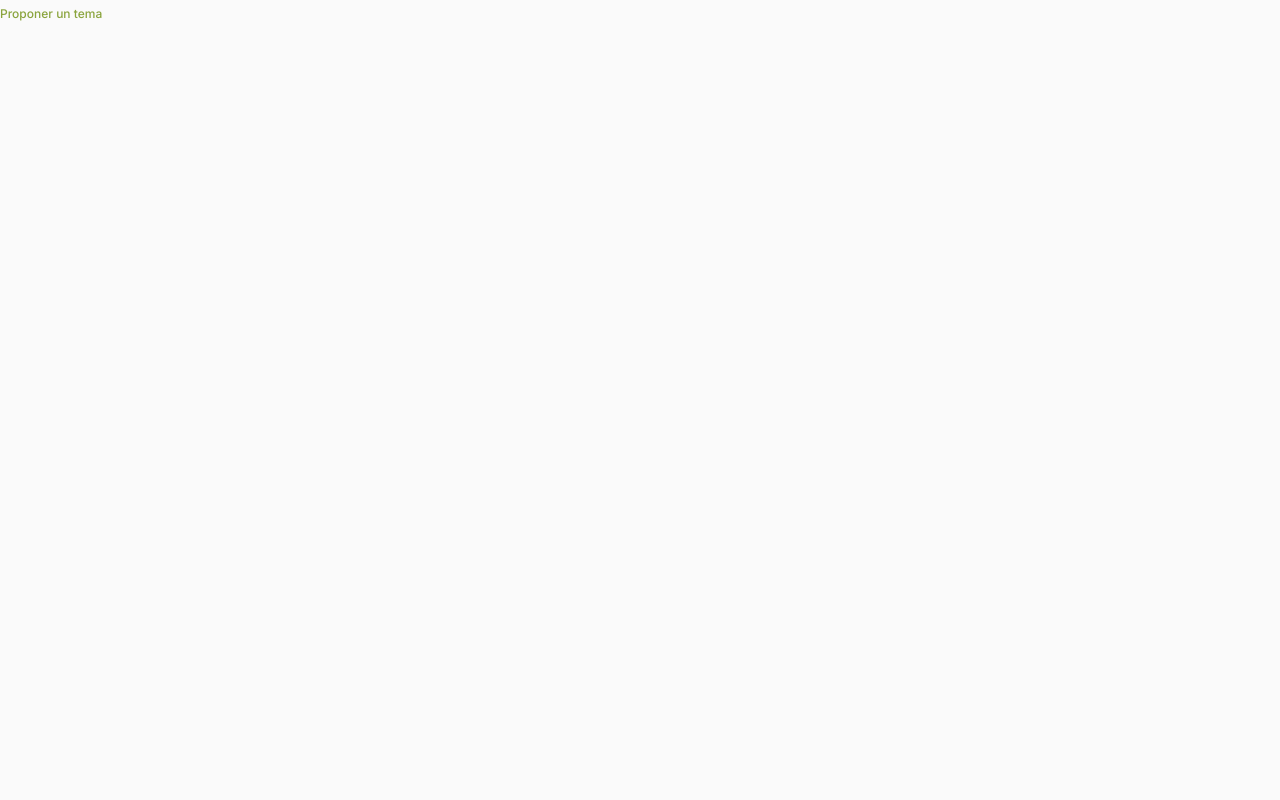
it: does not present failed loading as an empty inbox
What coordinates should you click on to do the following:
click the button "Proponer un tema"
I would click on:
 (51, 14)
Its box is [0,0,102,28].
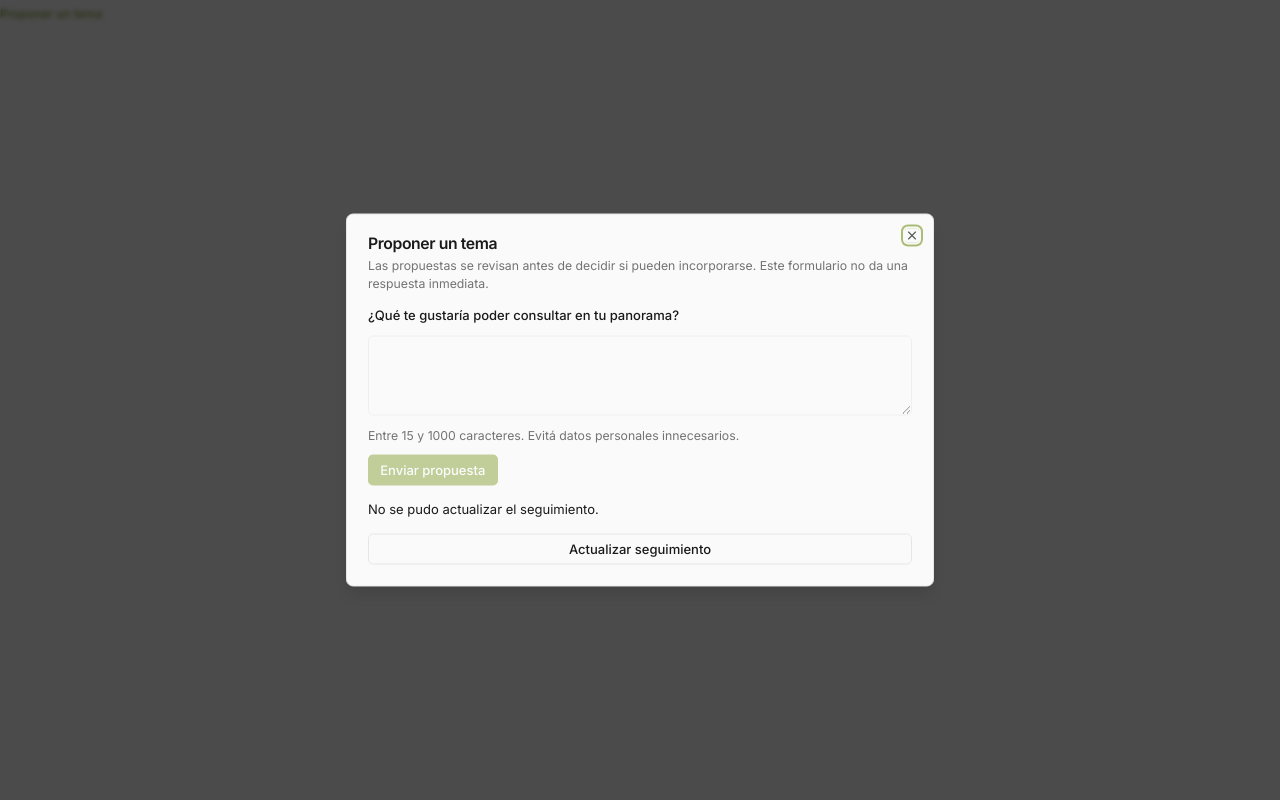
Expected: the message "No se pudo actualizar el seguimiento." is shown, [368,500,599,516]
